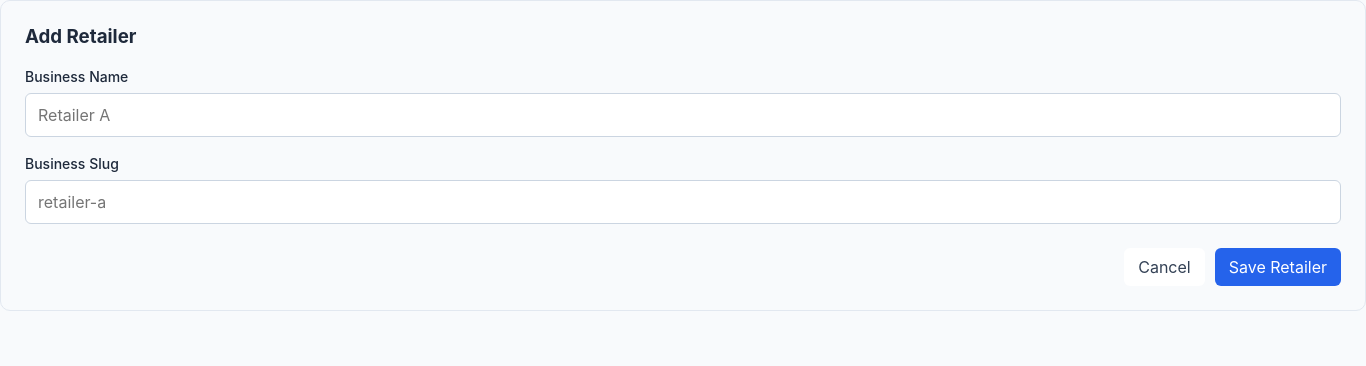
Scenario: TenantForm › displays an API error
Step 1. Type "Retailer C" into the field labelled "Business Name" → (683, 115), box [25,93,1341,137]
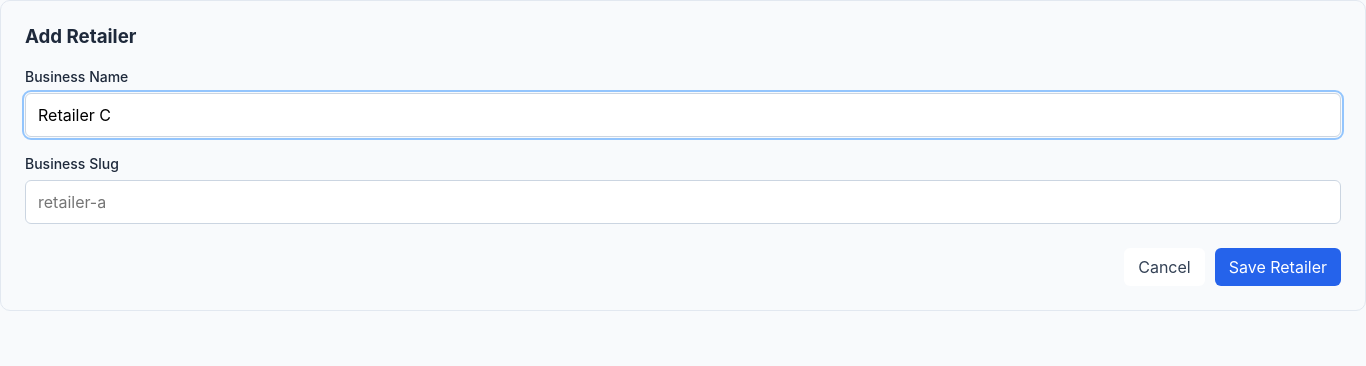
Step 2. Type "retailer-c" into the field labelled "Business Slug" → (683, 202), box [25,180,1341,224]
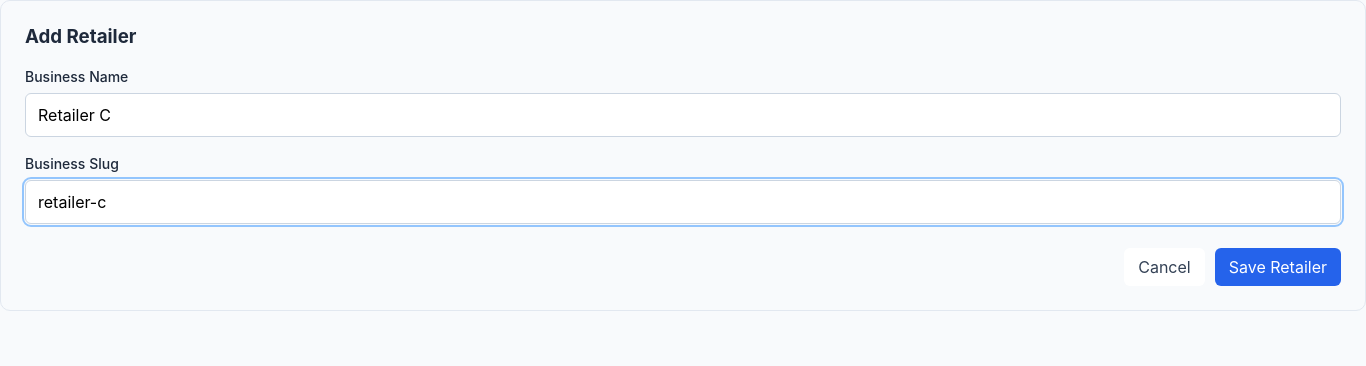
Step 3. Click the button "Save Retailer" → (1278, 267), box [1215,248,1341,286]
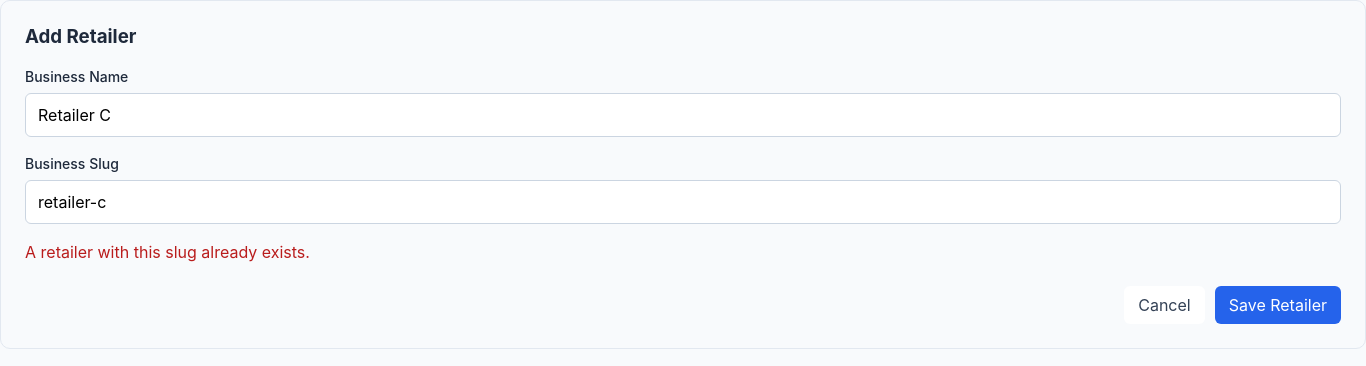
Now the message shows "already exists", box [25,242,310,262]
